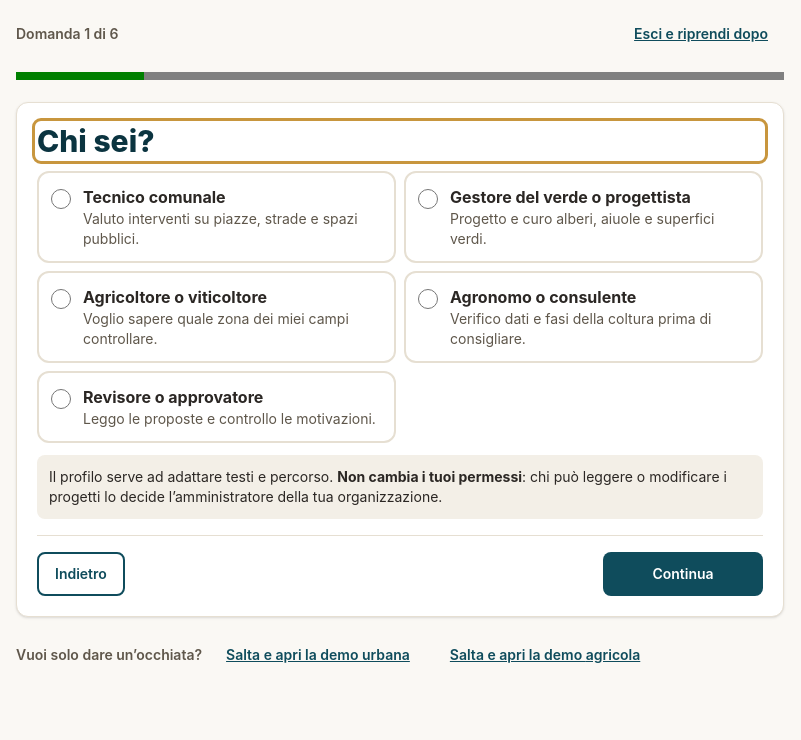
Scenario: Onboarding — percorso urbano da ospite › non permette di proseguire senza risposta e lo spiega
This screenshot has width=801, height=740.
Click the button "Continua" at (683, 574), box [603,552,763,596]
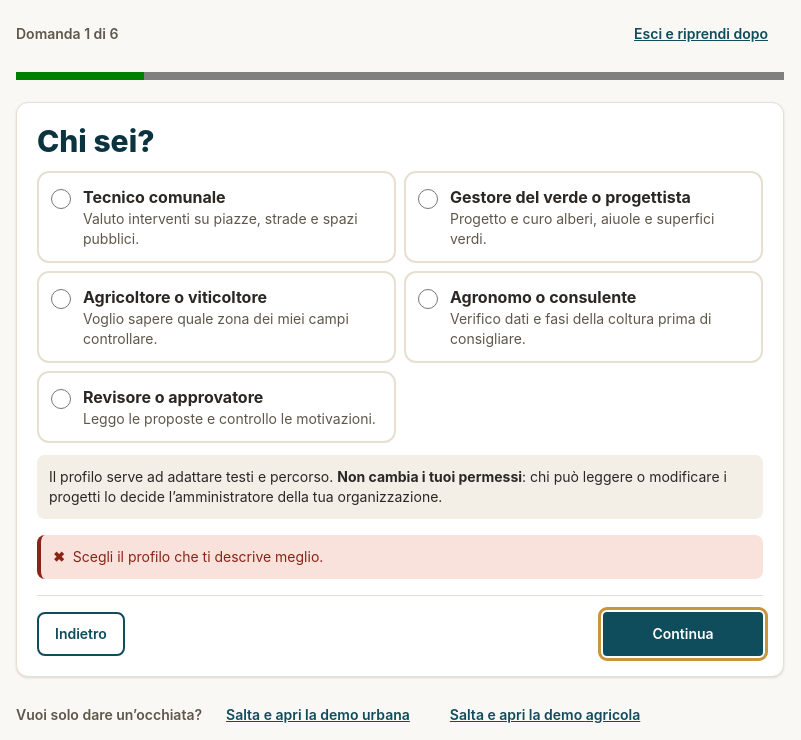
Now the message shows "Scegli il profilo", box [73,548,323,565]
